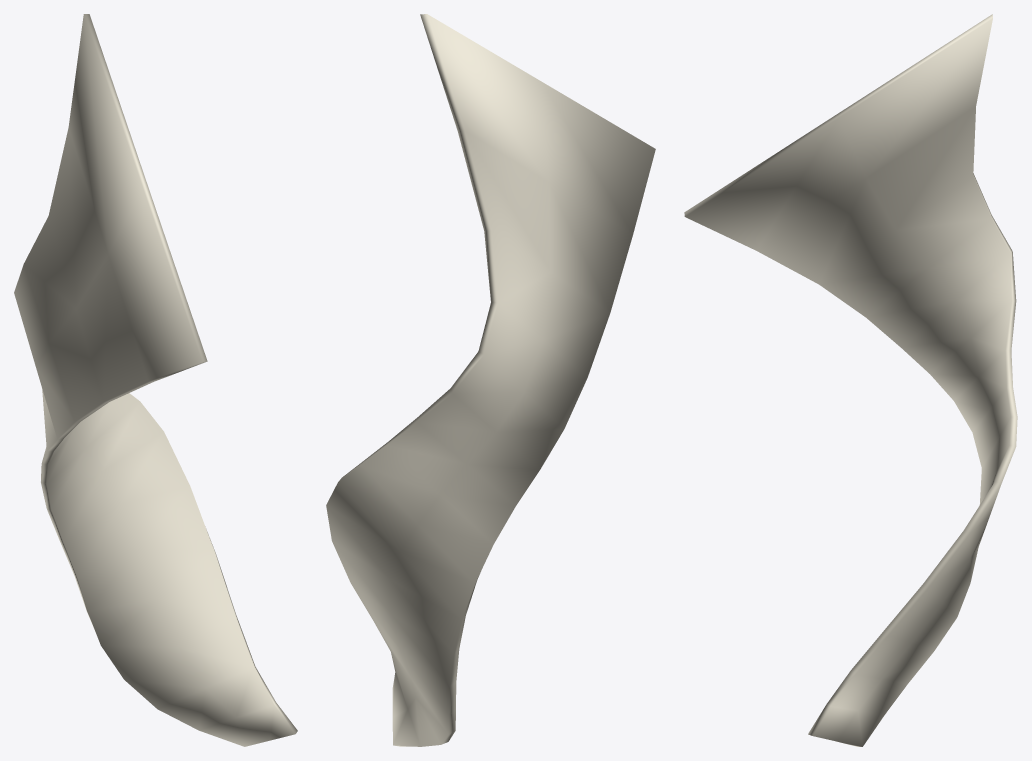
3 renders of one model, left to right at view 1: azimuth 30°, elevation 25°; view 2: azimuth 150°, elevation 25°; view 3: azimuth 270°, elevation 25°, orthographic. The views are drawn at different scales.
Parts seen in each view (by area): view 1: ZA_db3cd70cb1cbe2c0; view 2: ZA_db3cd70cb1cbe2c0; view 3: ZA_db3cd70cb1cbe2c0.
Boxes of the visible parts, box(x1,y1,x2,y2) form: ZA_db3cd70cb1cbe2c0: box(14, 14, 297, 746); ZA_db3cd70cb1cbe2c0: box(326, 14, 655, 746); ZA_db3cd70cb1cbe2c0: box(684, 14, 1017, 746).
Size of the model in its own units: 0.0157 by 0.0541 by 0.0237.
